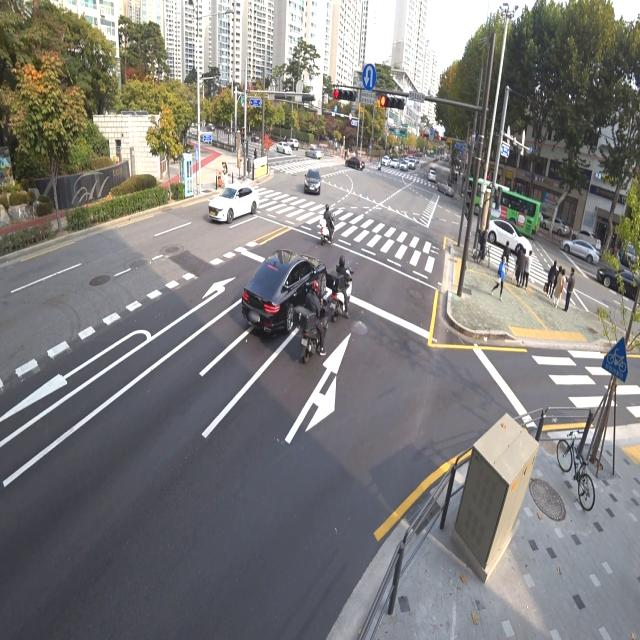Bus: (462, 174, 542, 238)
Car: (242, 230, 330, 340), (206, 182, 268, 228), (482, 214, 537, 256), (598, 258, 640, 309), (563, 230, 602, 264), (302, 163, 326, 198), (542, 209, 570, 238), (574, 227, 600, 246), (618, 239, 636, 266), (273, 137, 290, 162), (436, 175, 454, 198), (347, 153, 365, 175), (305, 144, 325, 162), (425, 166, 438, 184), (290, 135, 300, 149), (390, 159, 402, 170), (400, 157, 408, 172), (382, 152, 391, 165)
Motorcycle: (290, 278, 330, 363), (326, 253, 356, 323), (314, 204, 342, 254), (377, 156, 382, 176)
